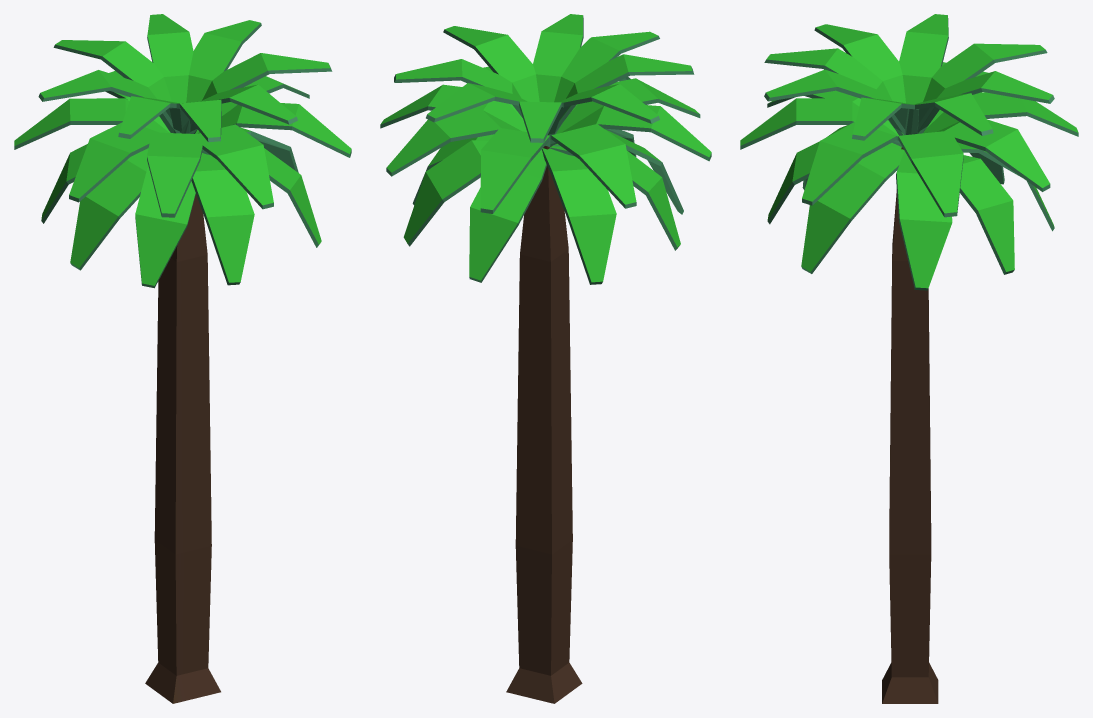
The model's file is Palmtree_Big.fbx.
3 renders of one model, left to right at view 1: azimuth 30°, elevation 25°; view 2: azimuth 150°, elevation 25°; view 3: azimuth 270°, elevation 25°, orthographic.
Parts seen in each view (by area): view 1: Cube.033; view 2: Cube.033; view 3: Cube.033.
Boxes of the visible parts, x1,y1,x2,y2 form: Cube.033: (14, 14, 351, 703); Cube.033: (380, 14, 711, 703); Cube.033: (740, 14, 1078, 703).
Bounding box in the file's own units: 1060 × 2220 × 1091.
